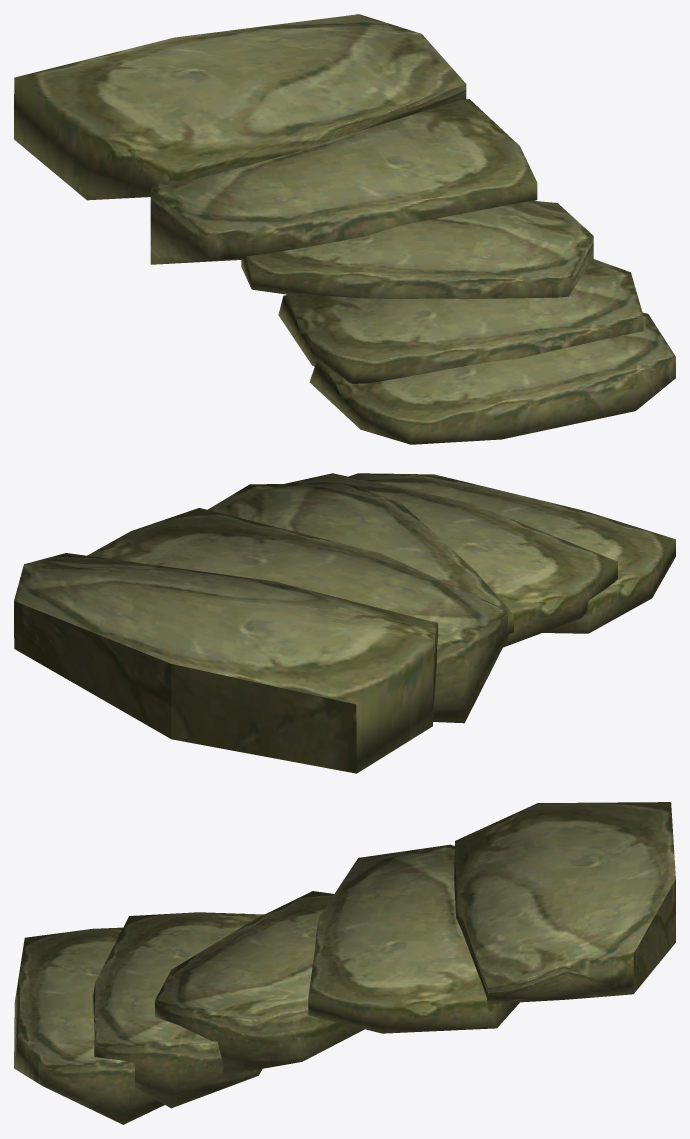
The model's file is environment_common_shijie_001_a.FBX.
The picture shows the model from 3 angles, top to bottom: view 1: azimuth 30°, elevation 25°; view 2: azimuth 150°, elevation 25°; view 3: azimuth 270°, elevation 25°; orthographic projection. The views are drawn at different scales.
Visible parts, largest first — view 1: environment_common_shijie_001_a; view 2: environment_common_shijie_001_a; view 3: environment_common_shijie_001_a.
Boxes of the visible parts, x1=… form: environment_common_shijie_001_a: x1=14, y1=14, x2=675, y2=444; environment_common_shijie_001_a: x1=14, y1=473, x2=675, y2=773; environment_common_shijie_001_a: x1=14, y1=802, x2=675, y2=1124.
Bounding box in the file's own units: 273 × 128 × 459.
Materials: 1 (1 with a texture image).
